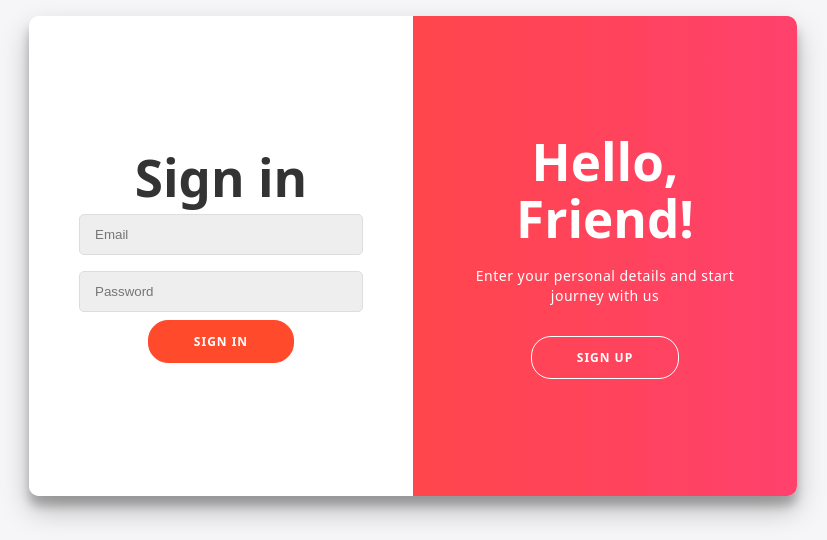
Test: Test error handling và success messages › IT-TC-C2: Handles API login error
Type "invalid@test.com" into the field with test id "login-email". click: (221, 234)
box: [79,214,363,255]
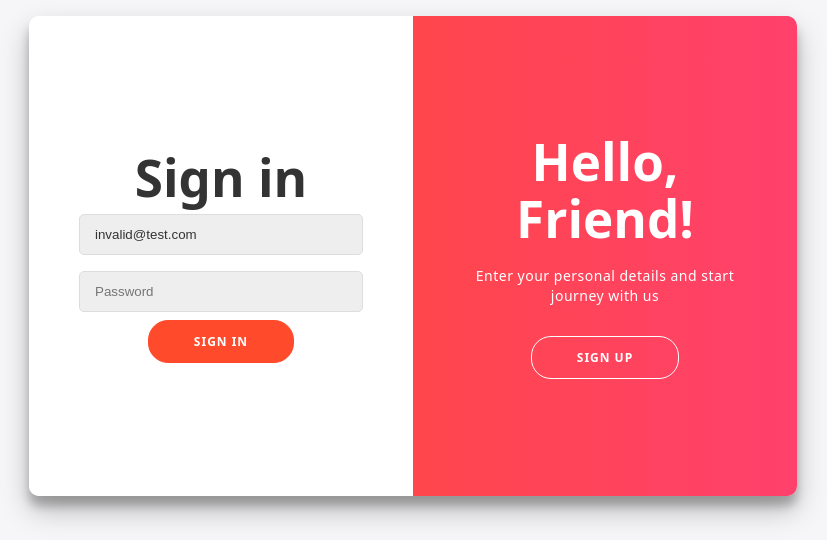
Type "wrong" into the password field with test id "login-password". click: (221, 291)
box: [79,271,363,312]
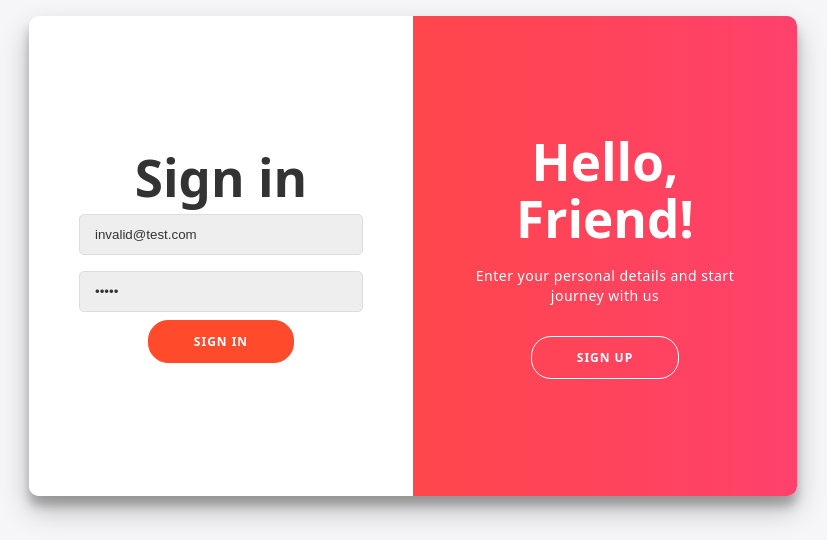
Click the button with test id "login-button". click: (221, 341)
box: [148,320,294,363]
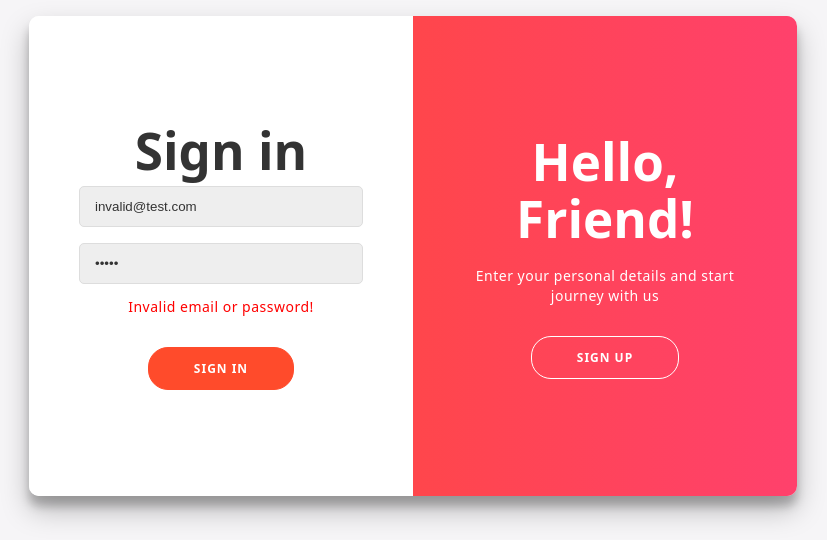
Expected: the text with test id "login-error" reads "Invalid email or password!", [128,297,314,316]
